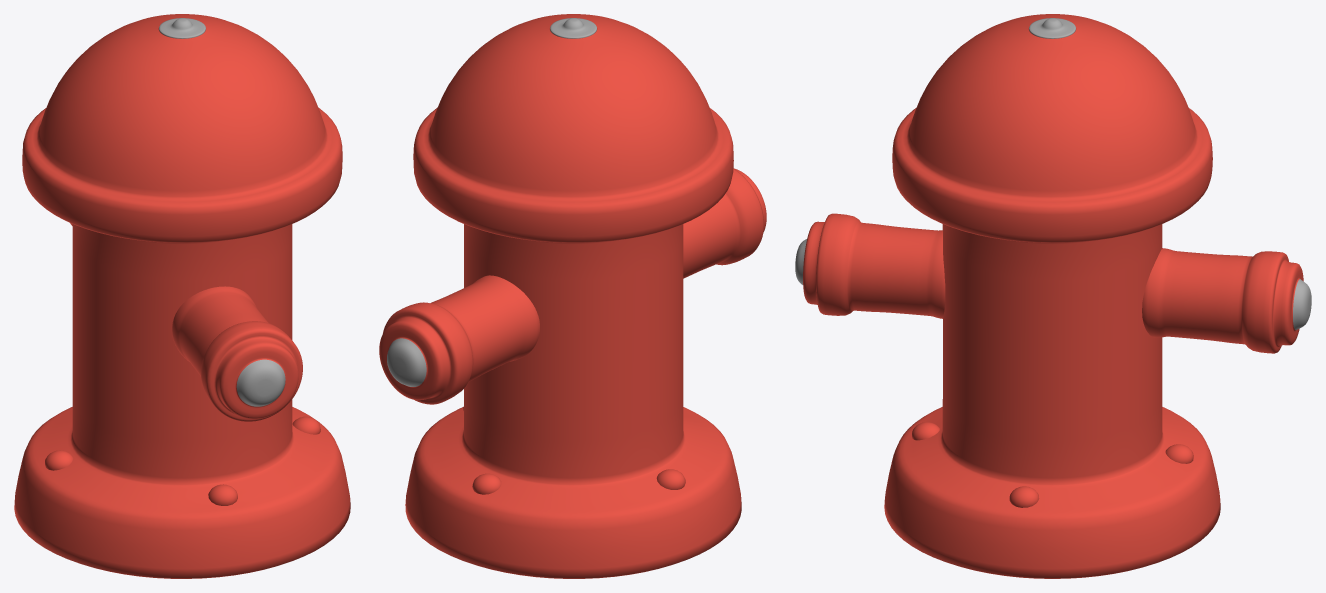
File: waterPump-v2.glb
The picture shows the model from 3 angles, left to right: view 1: azimuth 30°, elevation 25°; view 2: azimuth 150°, elevation 25°; view 3: azimuth 270°, elevation 25°; orthographic projection.
Parts seen in each view (by area): view 1: WaterPump; view 2: WaterPump; view 3: WaterPump.
Boxes of the visible parts, x1,y1,x2,y2 form: WaterPump: (14, 14, 350, 578); WaterPump: (379, 14, 766, 578); WaterPump: (795, 14, 1311, 578).
Bounding box in the file's own units: 2.28 × 3.67 × 3.49.
